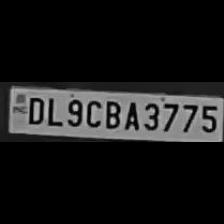3: (140, 99, 160, 131)
5: (196, 101, 218, 133)
7: (178, 100, 196, 134), (160, 100, 178, 132)
9: (62, 96, 82, 127)
A: (121, 98, 139, 130)
B: (101, 97, 121, 129)
C: (82, 97, 102, 128)
D: (24, 94, 44, 124)
L: (44, 94, 62, 126)
